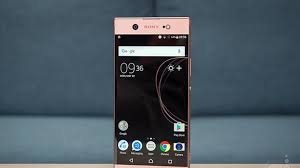sony: (109, 14, 193, 168)
